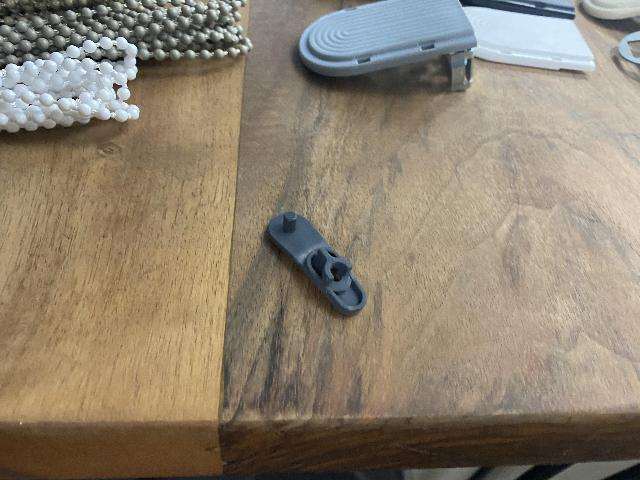Plastik: (308, 0, 473, 89), (263, 202, 373, 317), (473, 0, 602, 78)
